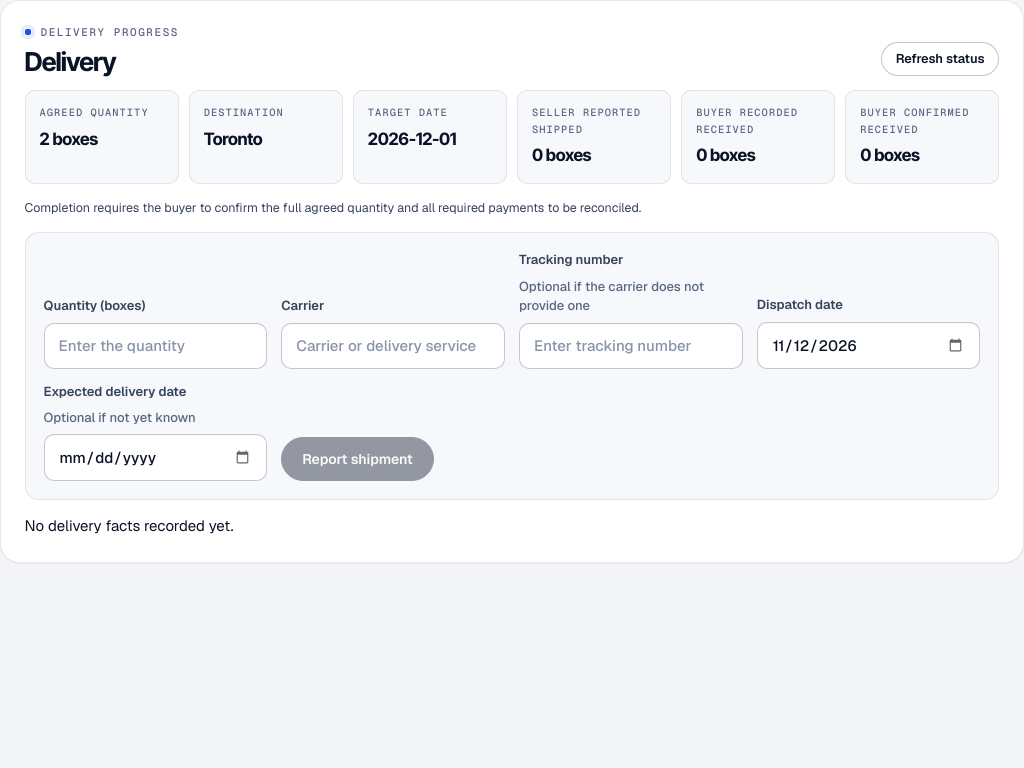
Test case: FulfillmentPanel › records a seller shipment against the current agreement and refreshes totals
Check: the text "Agreed quantity" is shown, box [40,105,164,122]
Type "1" into the field labelled "Quantity (boxes)" at (155, 346), box [44,323,267,369]
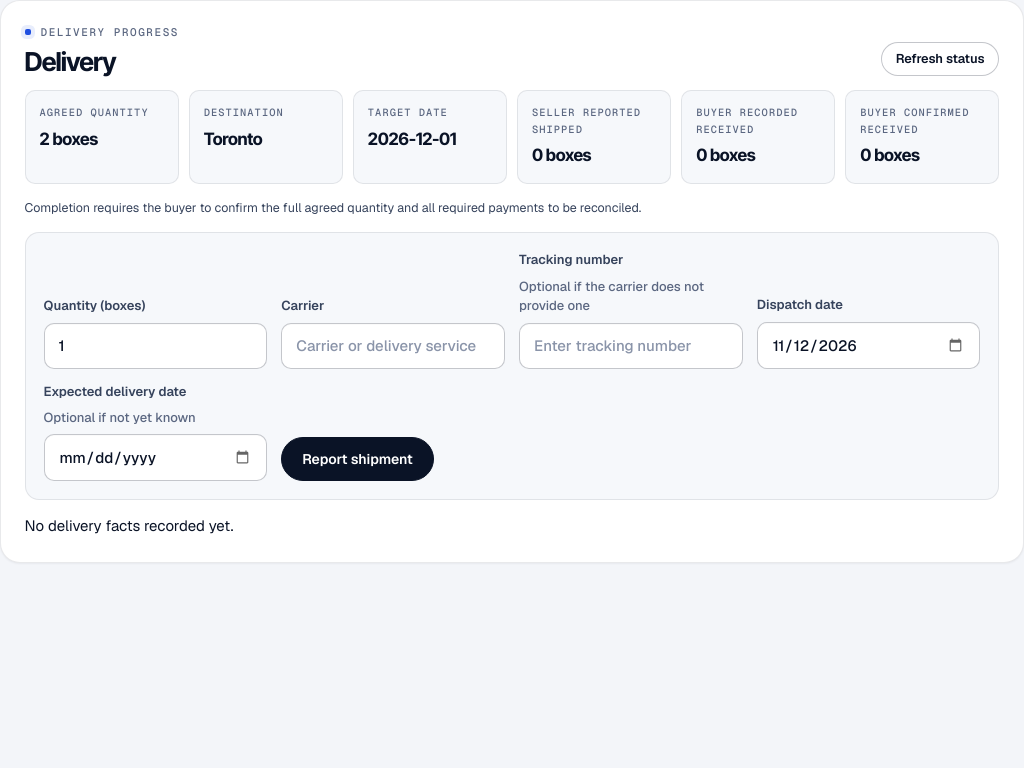
Type "DHL" into the field labelled "Carrier" at (393, 346), box [281,323,505,369]
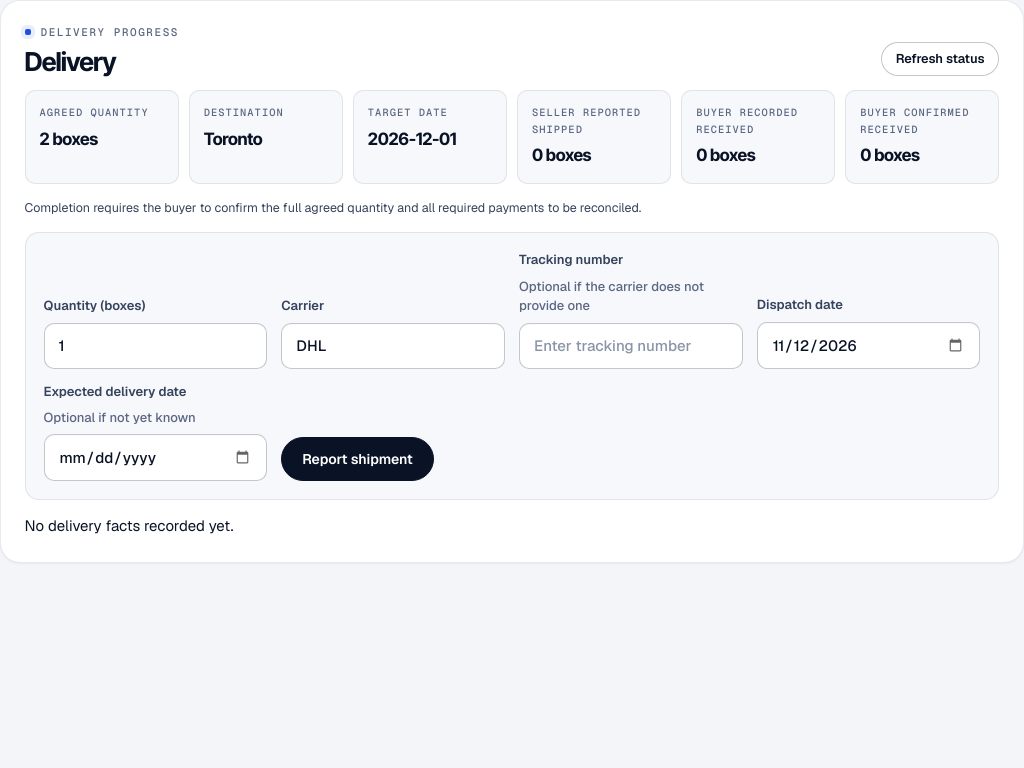
Type "JD123" into the field labelled "Tracking number Optional if the carrier does not provide one" at (631, 346), box [519,323,743,369]
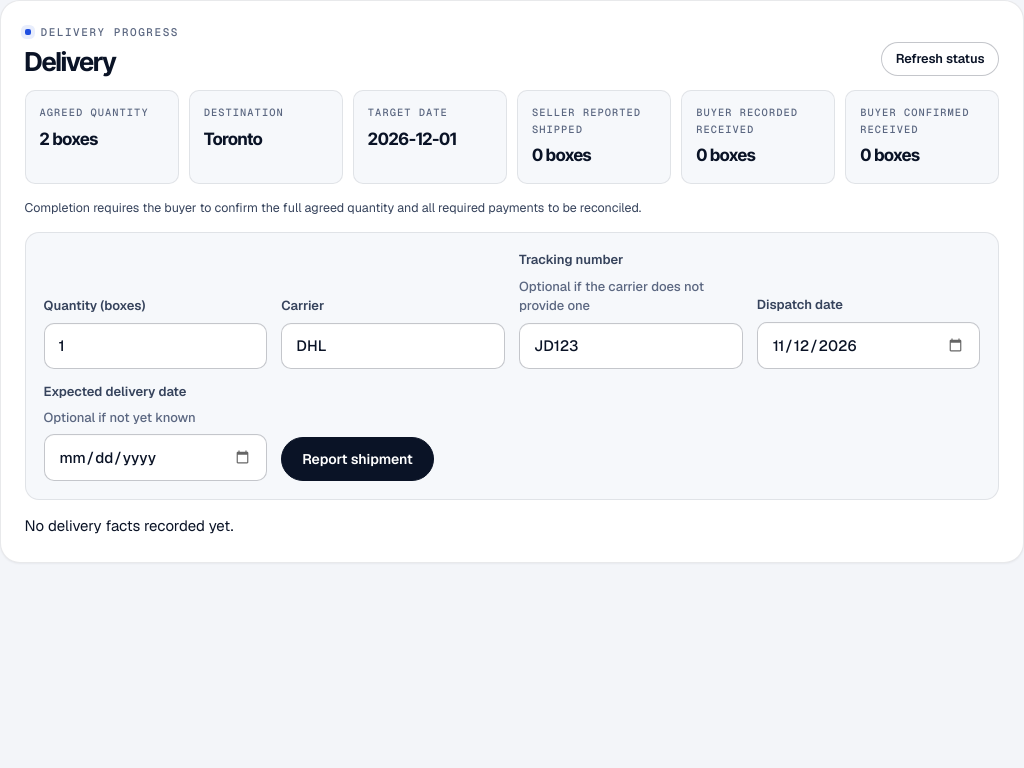
Type "2026-11-07" into the date field labelled "Dispatch date" at (869, 345), box [757,322,980,369]
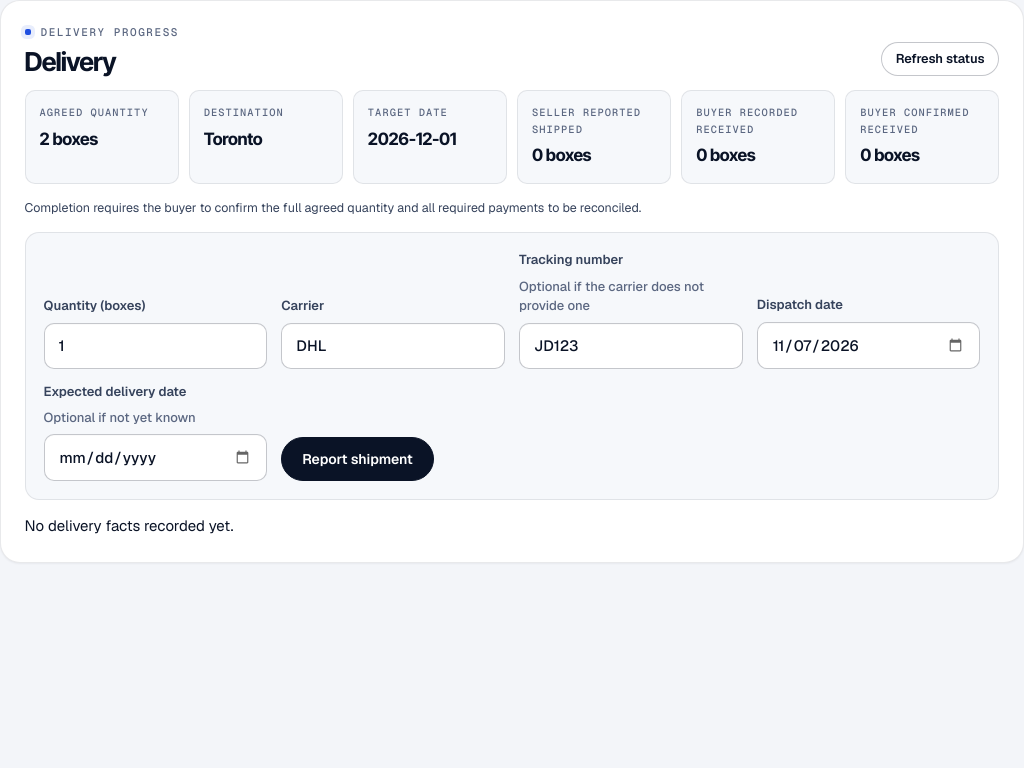
Type "2026-11-14" into the date field labelled "Expected delivery date Optional if not yet known" at (155, 458), box [44,434,267,481]
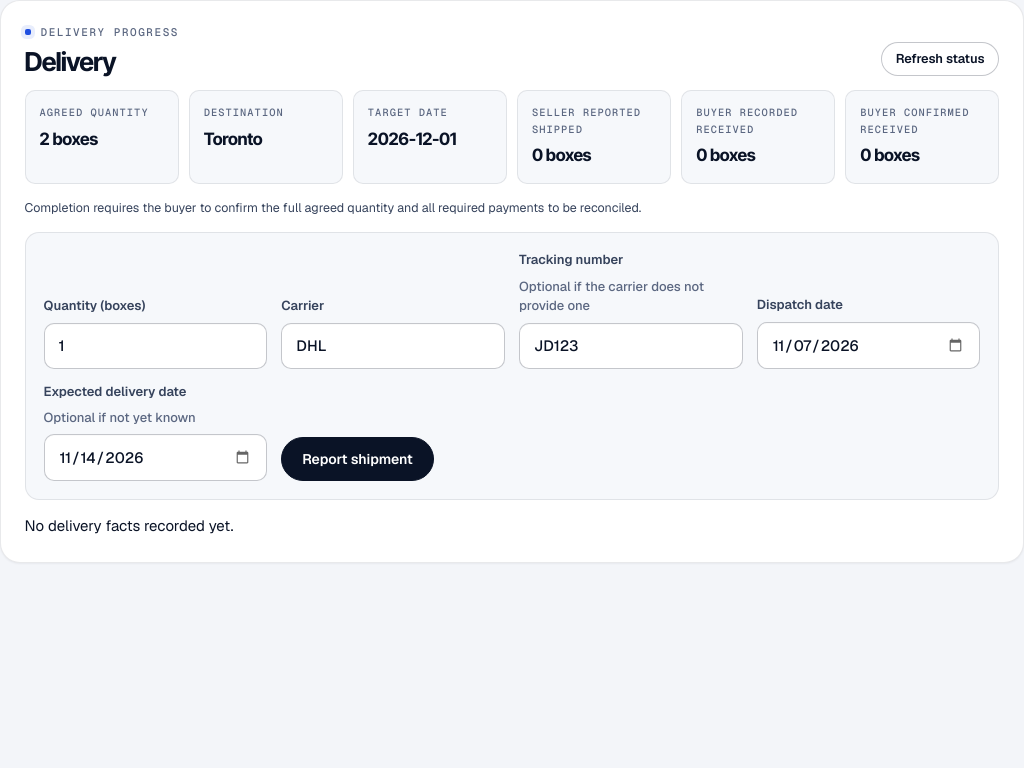
Click the button "Report shipment" at (358, 459), box [281,437,434,481]
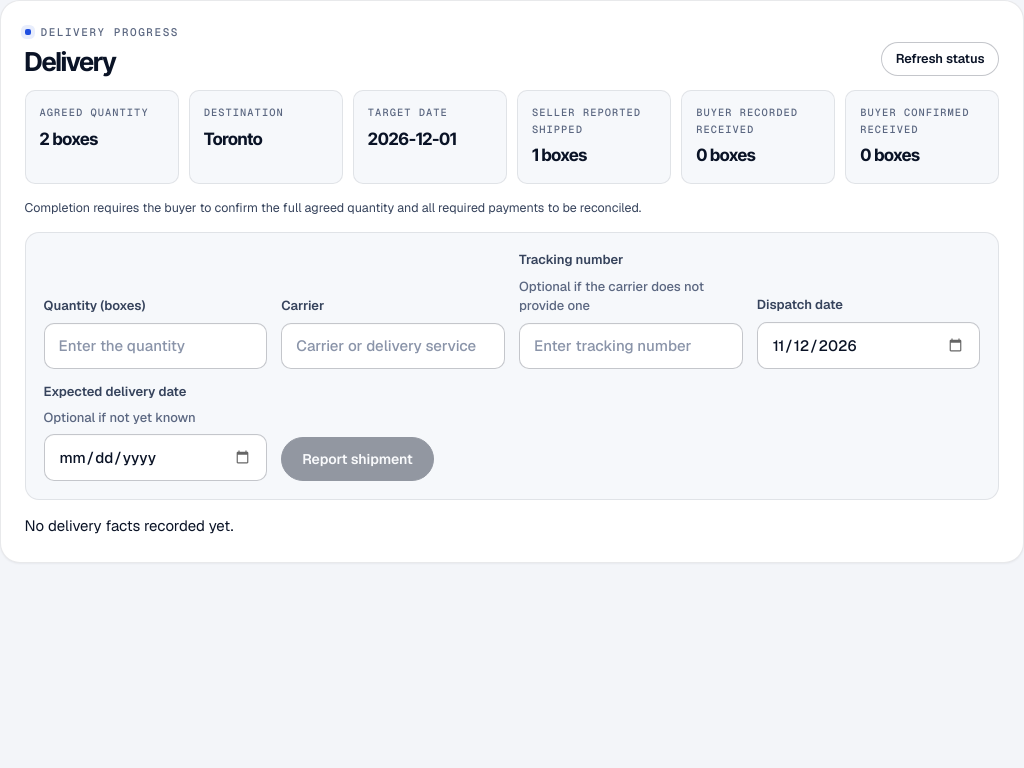
Check: the text "1 boxes" is shown, box [532,145,587,165]
